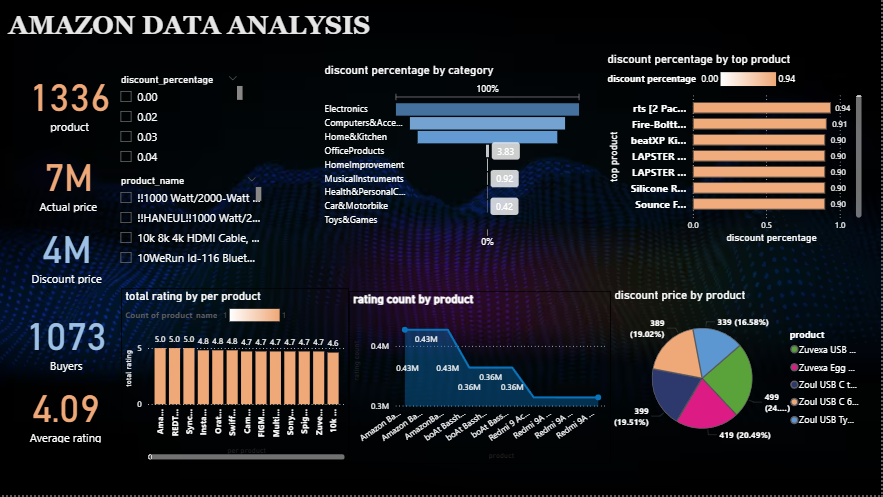

The page's visual inventory and layout, read from the dashboard file:
{"tool":"powerbi","page":{"name":"Page 1","canvas":[1280,720],"ordinal":0},"visuals":[{"type":"pieChart","fields":{"Category":["amazon data sets (2).product_name"],"Y":["Sum(amazon data sets (2).discounted_price.2)"]},"box":[889.9,407.5,371.5,267.8],"z":0},{"type":"barChart","fields":{"Category":["amazon data sets (2).product_name"],"Y":["Sum(amazon data sets (2).discount_percentage)"]},"box":[459.4,100.8,400.3,263.5],"z":1000},{"type":"card","fields":{"Values":["Count(amazon data sets (2).product_name)"]},"box":[15.2,99.4,183.3,102.1],"z":2000},{"type":"columnChart","fields":{"Category":["amazon data sets (2).product_name"],"Y":["Sum(amazon data sets (2).rating)"]},"box":[184.3,421.9,328.3,253.4],"z":3000},{"type":"card","fields":{"Values":["Count(amazon data sets (2).user_name.1)"]},"box":[12.6,441.1,179.3,106],"z":4000},{"type":"funnel","fields":{"Category":["amazon data sets (2).category.1"],"Y":["Sum(amazon data sets (2).discount_percentage)"]},"box":[887,102.2,377.3,262.1],"z":5000},{"type":"card","fields":{"Values":["Sum(amazon data sets (2).discounted_price.2)"]},"box":[11.3,316.7,183.3,103.4],"z":6000},{"type":"card","fields":{"Values":["Sum(amazon data sets (2).actual_price.2)"]},"box":[15.2,214.6,179.3,102.1],"z":7000},{"type":"stackedAreaChart","fields":{"Category":["amazon data sets (2).product_name"],"Y":["Sum(amazon data sets (2).rating_count.1)"]},"box":[512.6,407.5,377.3,267.8],"z":8000},{"type":"textbox","box":[0,17.3,783.4,64.8],"z":9000},{"type":"slicer","fields":{"Values":["amazon data sets (2).product_name"]},"box":[187.6,253.4,220.3,144],"z":10000},{"type":"card","fields":{"Values":["Avg(amazon data sets (2).rating)"]},"box":[11.3,547.1,180.7,100.8],"z":12000},{"type":"slicer","fields":{"Values":["amazon data sets (2).discount_percentage"]},"box":[187.6,108,193,139.7],"z":13000}]}

Visuals, with their boxes in screenshot pixels (x1, y1, x2, y2), scaled from the page's 1280x720 canvas onto the 883x497 screenshot:
pieChart - amazon data sets (2).product_name x Sum(amazon data sets (2).discounted_price.2): BBox(614, 281, 870, 466)
barChart - amazon data sets (2).product_name x Sum(amazon data sets (2).discount_percentage): BBox(317, 70, 593, 251)
card - Count(amazon data sets (2).product_name): BBox(10, 69, 137, 139)
columnChart - amazon data sets (2).product_name x Sum(amazon data sets (2).rating): BBox(127, 291, 354, 466)
card - Count(amazon data sets (2).user_name.1): BBox(9, 304, 132, 378)
funnel - amazon data sets (2).category.1 x Sum(amazon data sets (2).discount_percentage): BBox(612, 71, 872, 251)
card - Sum(amazon data sets (2).discounted_price.2): BBox(8, 219, 134, 290)
card - Sum(amazon data sets (2).actual_price.2): BBox(10, 148, 134, 219)
stackedAreaChart - amazon data sets (2).product_name x Sum(amazon data sets (2).rating_count.1): BBox(354, 281, 614, 466)
textbox: BBox(0, 12, 540, 57)
slicer - amazon data sets (2).product_name: BBox(129, 175, 281, 274)
card - Avg(amazon data sets (2).rating): BBox(8, 378, 132, 447)
slicer - amazon data sets (2).discount_percentage: BBox(129, 75, 263, 171)
